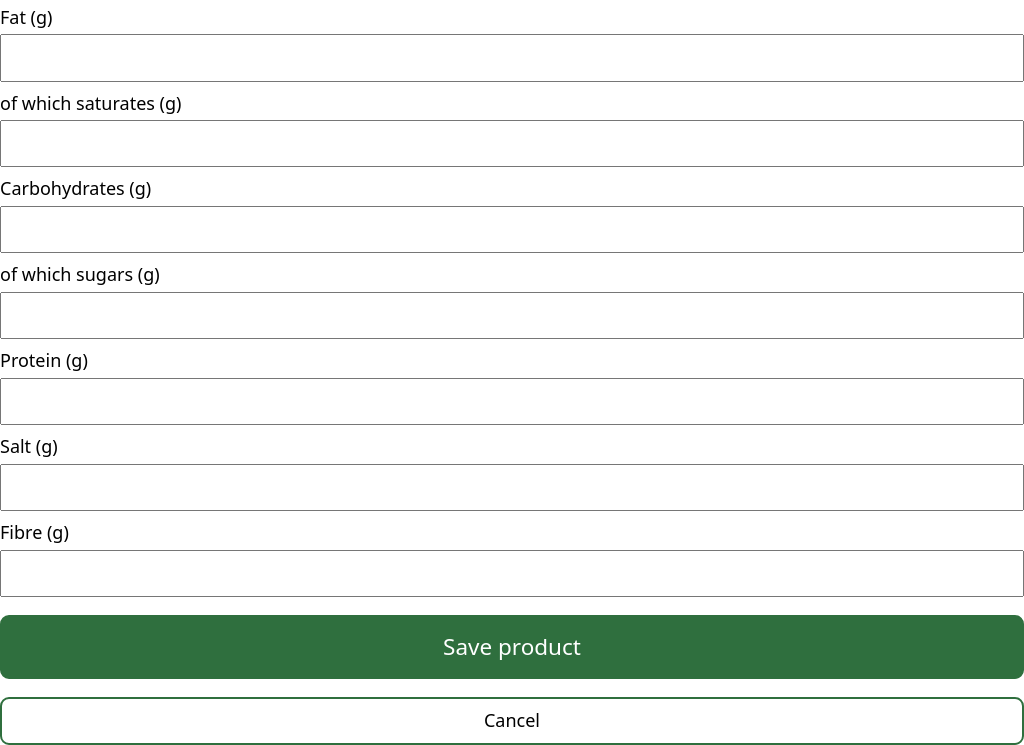
Test: the product form › #64-1: the name is required; nothing is sent without it
(page scrolled)
Click the button "Save product" at (512, 647), box [0,615,1023,679]
(page scrolled)
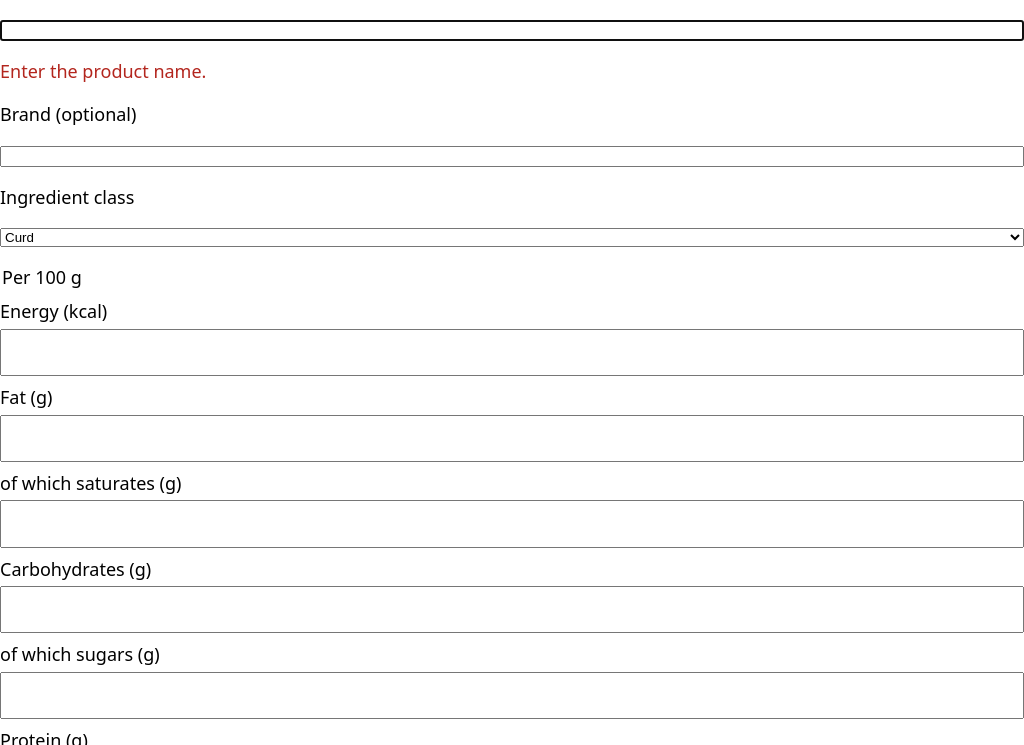
expect the text "Enter the product name." is shown: met, box [0,59,206,83]
